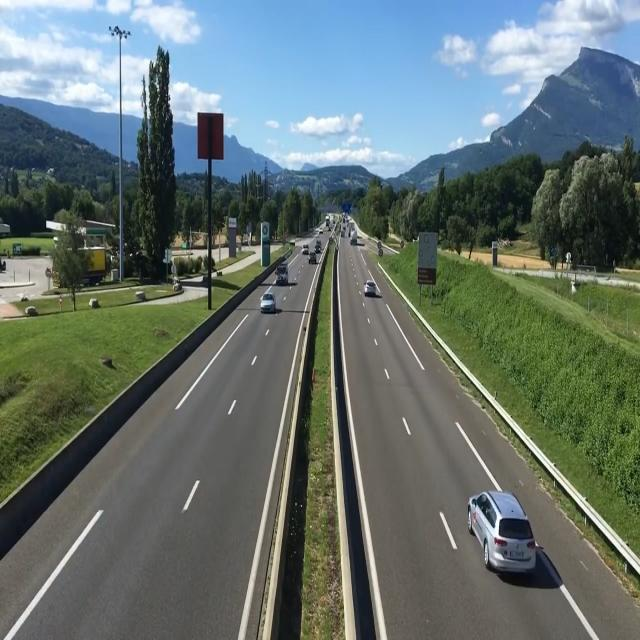car: (464, 493, 546, 584), (257, 283, 281, 317), (274, 260, 292, 286), (363, 276, 379, 300)
